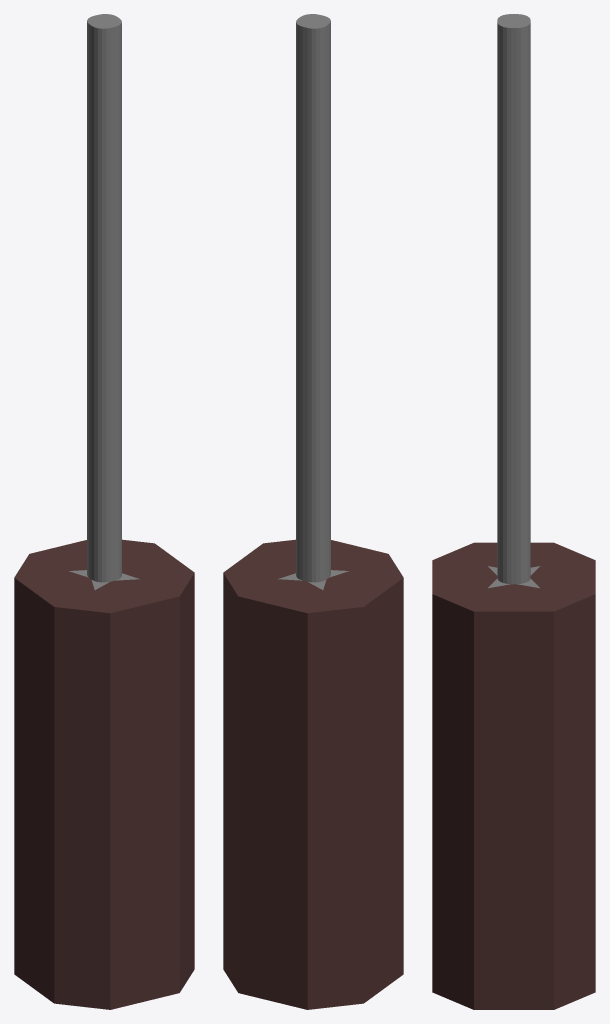
File: screwdriver.fbx
3 views of the same model, side by side, from view 1: azimuth 30°, elevation 25°; view 2: azimuth 150°, elevation 25°; view 3: azimuth 270°, elevation 25° (orthographic).
Visible parts, largest first — view 1: Cube; view 2: Cube; view 3: Cube.
Boxes of the visible parts, x1,y1,x2,y2 form: Cube: (14,14,194,1009); Cube: (223,14,403,1009); Cube: (432,14,595,1009).
Size of the model in its own units: 60 by 388 by 60.
